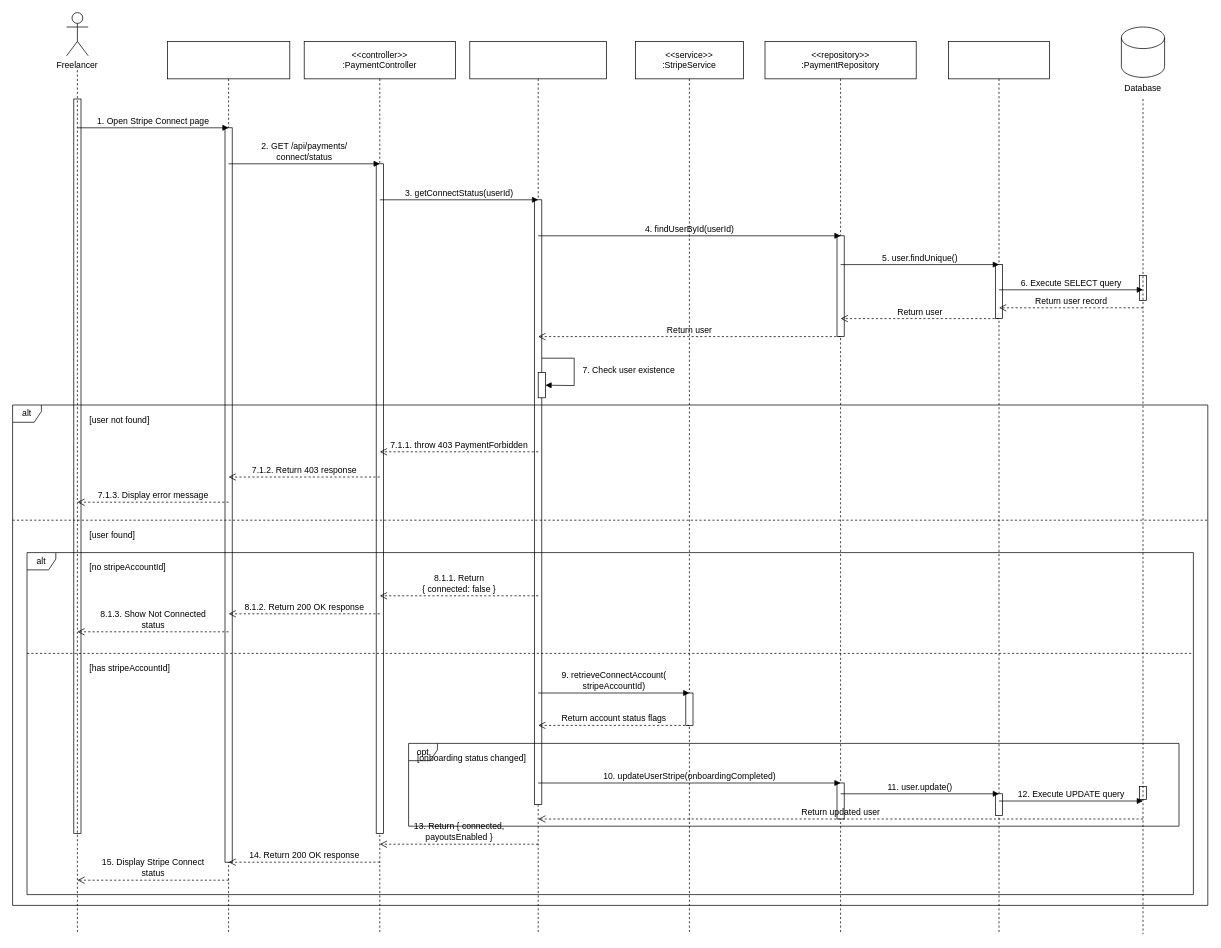
The diagram is 1221 pixels wide and 948 high, and some of its shapes have lost their labels. The shapes that lost their labels are listed below. From the top down, each one's box as (x1, y1, x2, y2) in pixels, then its label:
(167, 41, 290, 934): <<boundary>> StripeConnectPage
(469, 41, 607, 934): <<service>> :PaymentService
(948, 41, 1049, 934): <<service>> :PrismaService
